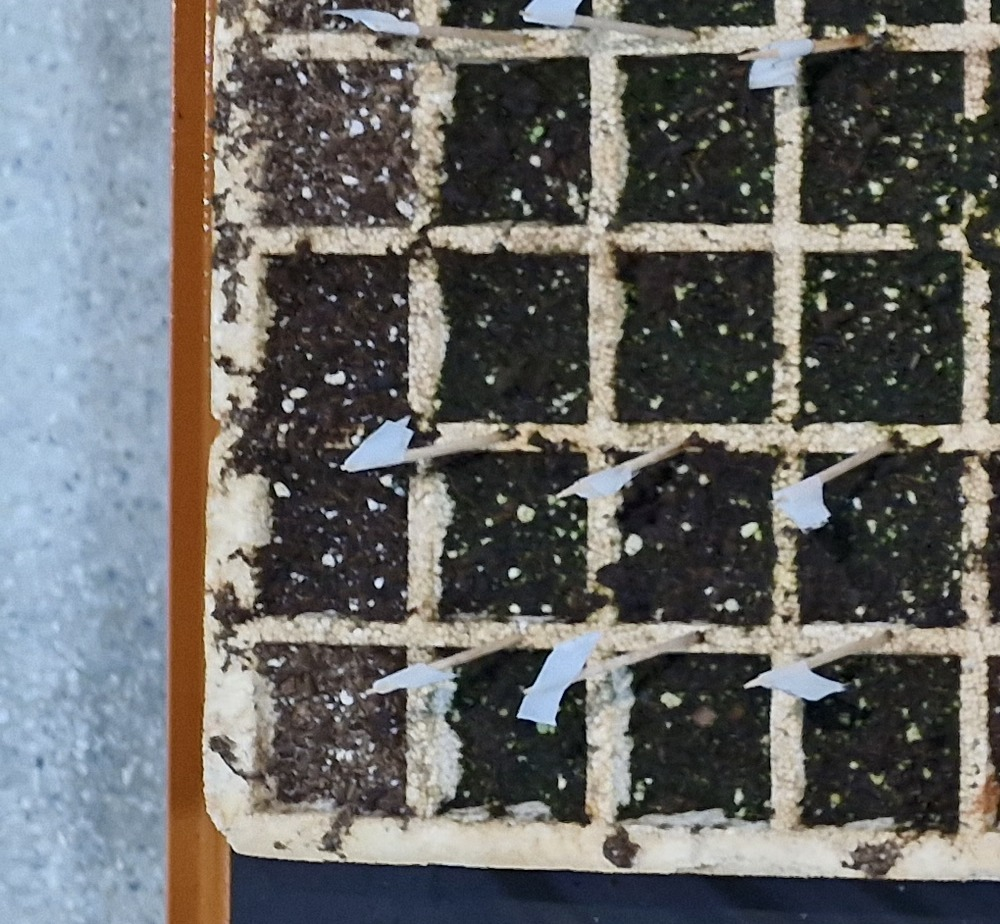Folha: (532, 126, 544, 136)
Germinacao: (528, 125, 543, 142)
